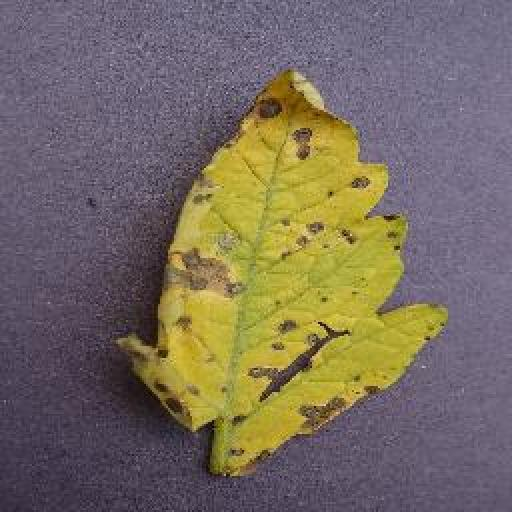Septoria: (114, 64, 451, 476)
